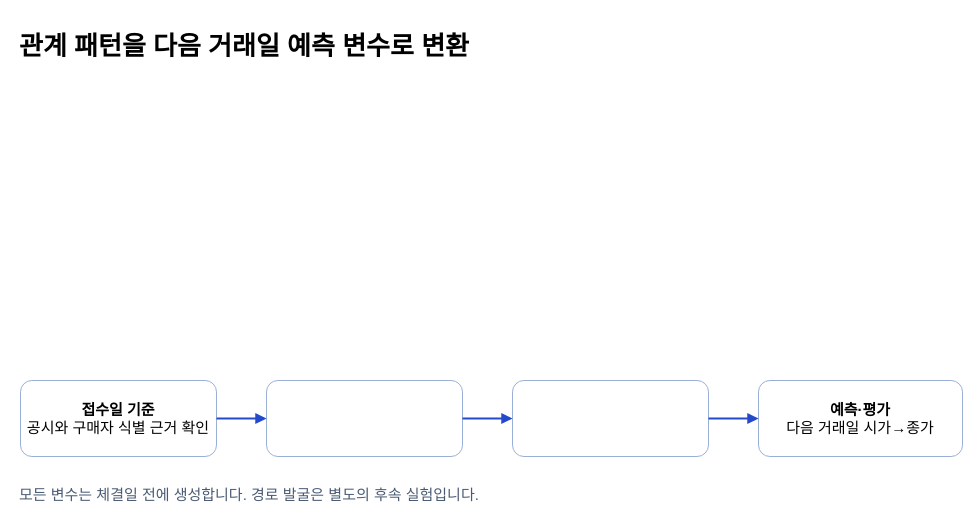
Some shapes in this 980 by 529 pixel diagram are drawn without their labels. Here are the shapes that lost their labels. From the top down, the centre of each, then its label:
At point 364,418: "관계 패턴 기업 → 계약 ← 상대 기업".
At point 610,418: "관계 변수 역할·상대 모멘텀·이전 계약 수".
